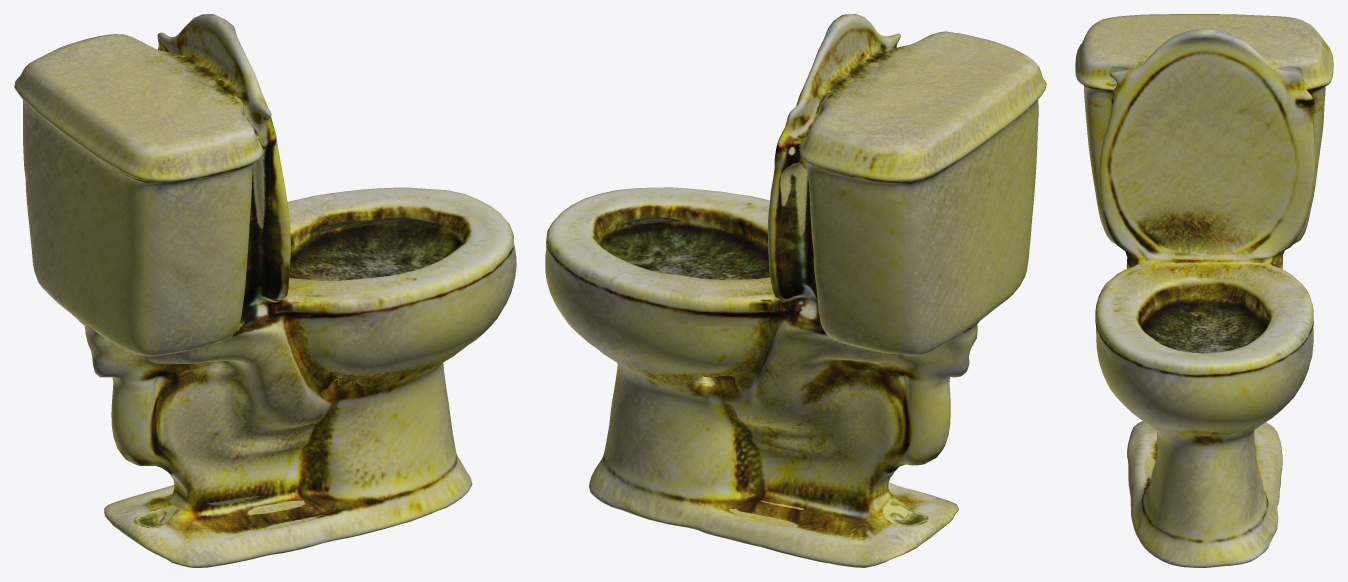
File: Toilet.fbx
3 views of the same model, side by side, from view 1: azimuth 30°, elevation 25°; view 2: azimuth 150°, elevation 25°; view 3: azimuth 270°, elevation 25° (orthographic). The views are drawn at different scales.
Visible parts, largest first — view 1: mesh; view 2: mesh; view 3: mesh.
Boxes of the visible parts, x1,y1,x2,y2 form: mesh: (14, 14, 516, 567); mesh: (545, 14, 1046, 567); mesh: (1075, 14, 1333, 567).
Size of the model in its own units: 88.24 by 99.78 by 52.95.
